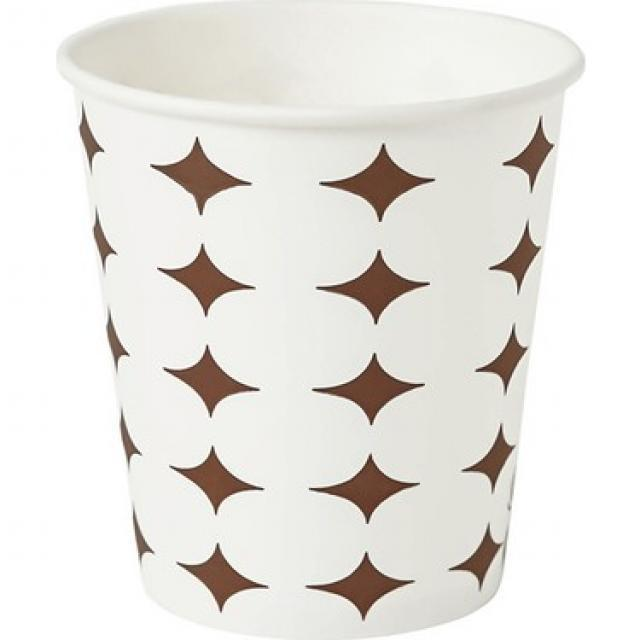trash: (46, 0, 614, 626)
